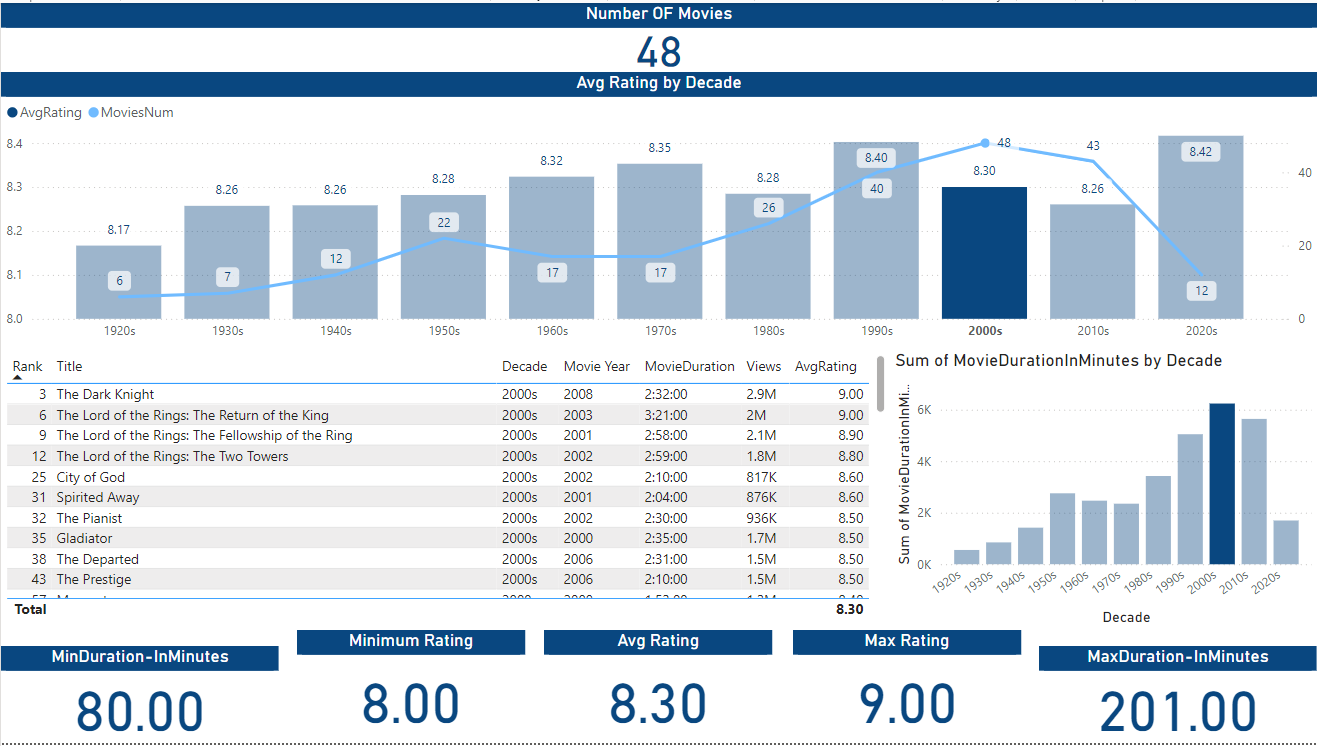

This screenshot's page, from the dashboard's own definition file:
{"tool":"powerbi","page":{"name":"TOP250 Movies","canvas":[1280,720],"ordinal":0},"visuals":[{"type":"card","title":"Number OF Movies ","fields":{"Values":["TOP 250 Movies.MoviesNum"]},"box":[0,0,1280,67.1],"z":0},{"type":"card","title":"Avg Rating","fields":{"Values":["TOP 250 Movies.AvgRating"]},"box":[528.1,609.8,222,109.9],"z":0,"group":"g1"},{"type":"card","title":"MinDuration-InMinutes","fields":{"Values":["TOP 250 Movies.MinDuration-InMinutes"]},"box":[0,625,270.4,95],"z":0,"group":"g2"},{"type":"group","id":"g1","title":"Group 1","box":[287.9,609.8,704.2,109.9],"z":1000},{"type":"card","title":"Max Rating","fields":{"Values":["TOP 250 Movies.MaxRating"]},"box":[770.3,609.8,221.8,109.9],"z":1000,"group":"g1"},{"type":"card","title":"Minimum Rating","fields":{"Values":["TOP 250 Movies.MinRating"]},"box":[287.9,609.8,221.8,109.9],"z":2000,"group":"g1"},{"type":"group","id":"g2","title":"Group 2","box":[0,625,1280,95],"z":2000},{"type":"card","title":"MaxDuration-InMinutes","fields":{"Values":["TOP 250 Movies.MaxDuration-InMinutes"]},"box":[1009.6,625,270.4,95],"z":2000,"group":"g2"},{"type":"lineStackedColumnComboChart","title":"Avg Rating by Decade","fields":{"Category":["TOP 250 Movies.Decade","TOP 250 Movies.Movie Year"],"Y":["TOP 250 Movies.AvgRating"],"Y2":["TOP 250 Movies.MoviesNum"]},"box":[0,67.1,1280,270.4],"z":3000},{"type":"tableEx","fields":{"Values":["TOP 250 Movies.Rank","TOP 250 Movies.Title","TOP 250 Movies.Decade","TOP 250 Movies.Movie Year","TOP 250 Movies.MovieDurationTime","TOP 250 Movies.Views","TOP 250 Movies.AvgRating"]},"box":[0,337.5,864.7,265.5],"z":4000},{"type":"lineStackedColumnComboChart","fields":{"Y":["Sum(TOP 250 Movies.MovieDurationInMinutes)"],"Category":["TOP 250 Movies.Decade","TOP 250 Movies.Movie Year"]},"box":[864.7,337.5,415.3,272.3],"z":5000}]}

Visuals, with their boxes in screenshot pixels (x1, y1, x2, y2), scaled from the page's 1280x720 canvas onto the 1317x746 screenshot:
"Number OF Movies " card: box(0, 0, 1316, 70)
"Avg Rating" card: box(543, 632, 772, 745)
"MinDuration-InMinutes" card: box(0, 648, 278, 745)
"Group 1" group: box(296, 632, 1021, 745)
"Max Rating" card: box(793, 632, 1021, 745)
"Minimum Rating" card: box(296, 632, 524, 745)
"Group 2" group: box(0, 648, 1316, 745)
"MaxDuration-InMinutes" card: box(1039, 648, 1316, 745)
"Avg Rating by Decade" lineStackedColumnComboChart: box(0, 70, 1316, 350)
tableEx - TOP 250 Movies.Rank x TOP 250 Movies.Title: box(0, 350, 890, 625)
lineStackedColumnComboChart - Sum(TOP 250 Movies.MovieDurationInMinutes) x TOP 250 Movies.Decade: box(890, 350, 1316, 632)
